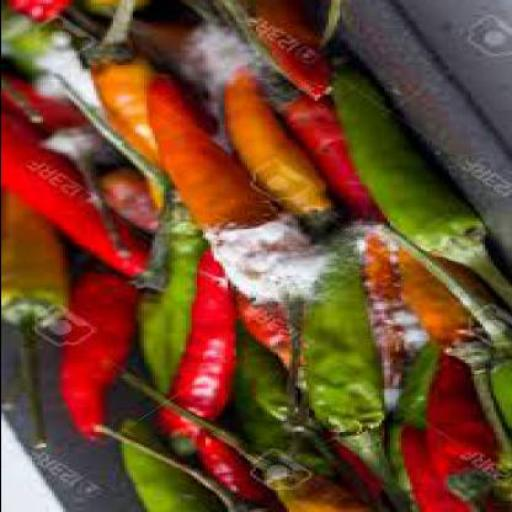biodegradable: (328, 50, 510, 309), (144, 75, 314, 307), (114, 368, 370, 511), (378, 231, 509, 441), (302, 268, 408, 511), (392, 242, 510, 458), (0, 70, 121, 265), (235, 334, 369, 508), (120, 370, 280, 511), (241, 334, 369, 504), (252, 60, 380, 224), (154, 246, 237, 462), (1, 191, 62, 449), (84, 2, 173, 172), (58, 266, 140, 442), (132, 188, 198, 402), (232, 358, 328, 480), (420, 354, 490, 511), (2, 2, 92, 114), (176, 23, 252, 151), (114, 423, 216, 511), (398, 430, 504, 510), (246, 2, 328, 103), (80, 2, 198, 63), (232, 287, 305, 385), (324, 429, 386, 501), (11, 2, 103, 50), (92, 173, 154, 234), (324, 443, 384, 505), (240, 300, 294, 364), (187, 2, 244, 46)
